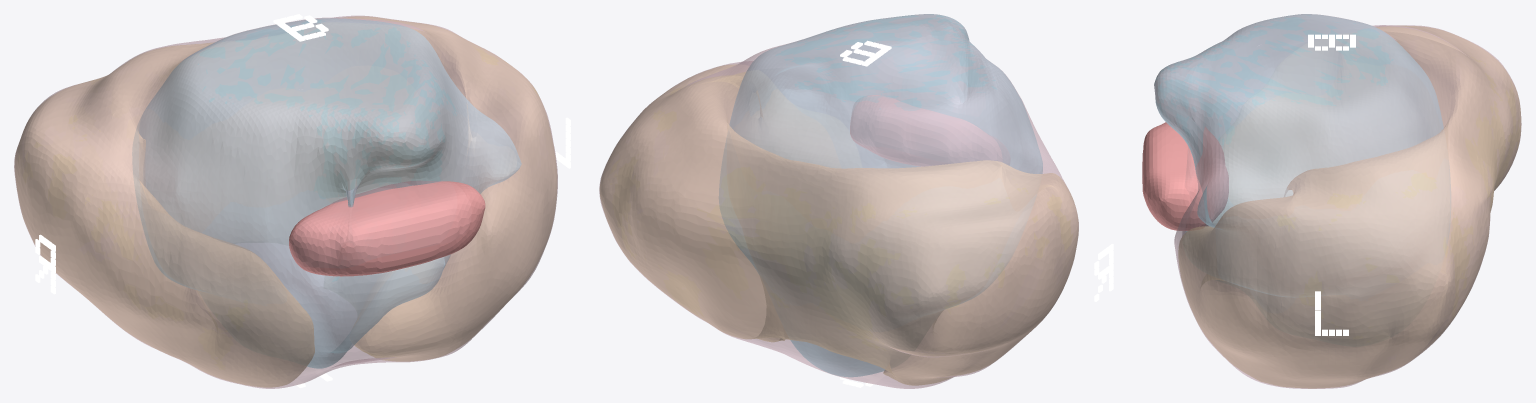
3 views of the same model, side by side, from view 1: azimuth 30°, elevation 25°; view 2: azimuth 150°, elevation 25°; view 3: azimuth 270°, elevation 25° (orthographic). The views are drawn at different scales.
Parts seen in each view (by area): view 1: prostate_gland, peripheral_zone, transition_zone, lesion_01, pv_ar_marker_B, pv_ar_marker_R; view 2: prostate_gland, peripheral_zone, transition_zone, lesion_01, pv_ar_marker_B, pv_ar_marker_R; view 3: prostate_gland, peripheral_zone, transition_zone, lesion_01, pv_ar_marker_B, pv_ar_marker_L.
Part boxes in pixels (x1,y1,x2,y2): prostate_gland: (14,15,557,388); peripheral_zone: (15,16,557,387); transition_zone: (132,18,521,368); lesion_01: (289,181,485,276); pv_ar_marker_B: (273,14,328,41); pv_ar_marker_R: (35,234,55,294); prostate_gland: (599,14,1078,388); peripheral_zone: (600,64,1078,385); transition_zone: (719,14,1042,376); lesion_01: (850,95,1009,166); pv_ar_marker_B: (840,40,891,66); pv_ar_marker_R: (1094,244,1113,301); prostate_gland: (1154,14,1521,388); peripheral_zone: (1178,26,1521,388); transition_zone: (1154,14,1450,297); lesion_01: (1142,122,1228,230); pv_ar_marker_B: (1308,34,1355,50); pv_ar_marker_L: (1315,291,1348,335).
Bounding box in the file's own units: 0.0541 × 0.0348 × 0.0379.
